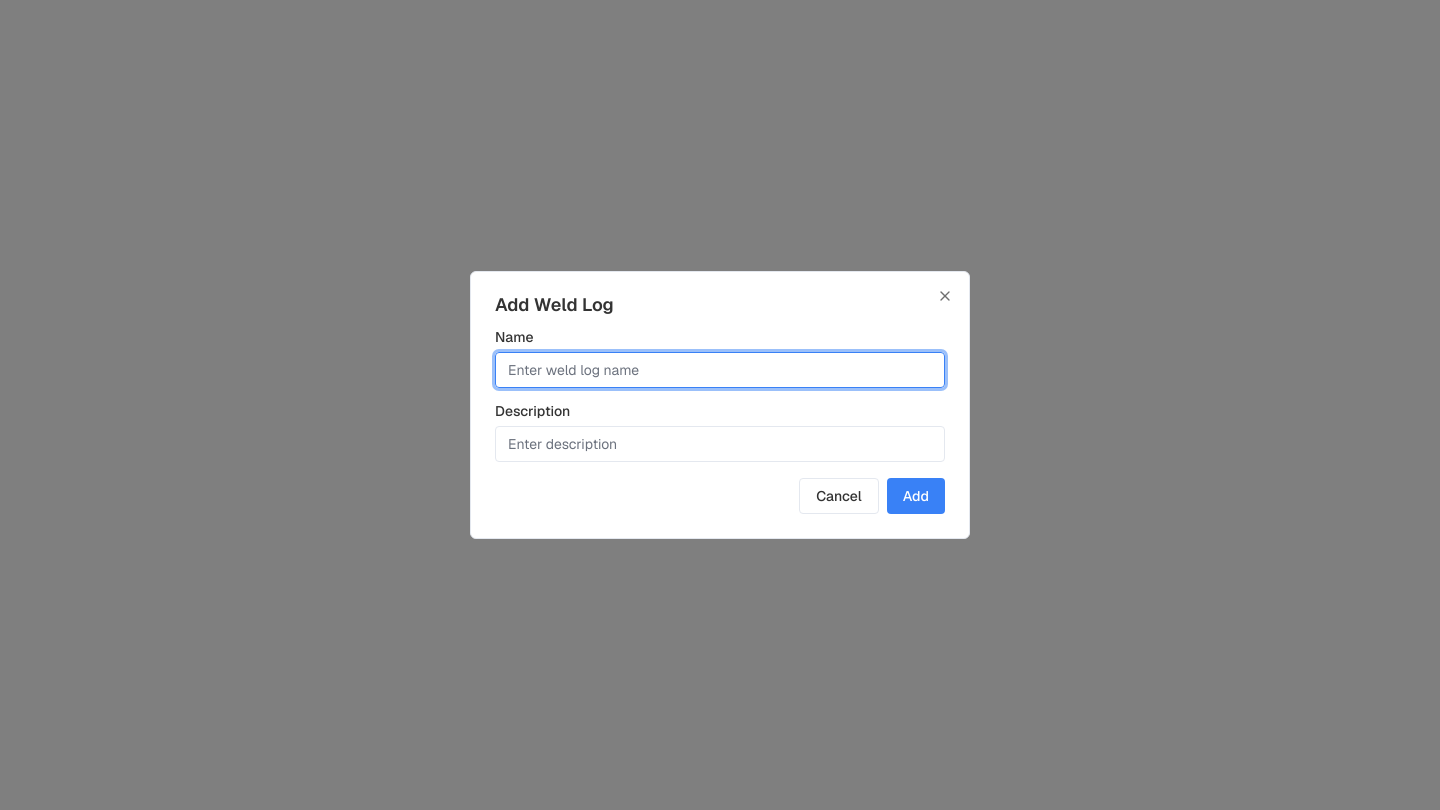
Test: WeldLogFormDialog › should handle form interactions and validation
// Test cancel functionality
Click the button "Cancel".
click(839, 496)  # box [799,478,879,514]
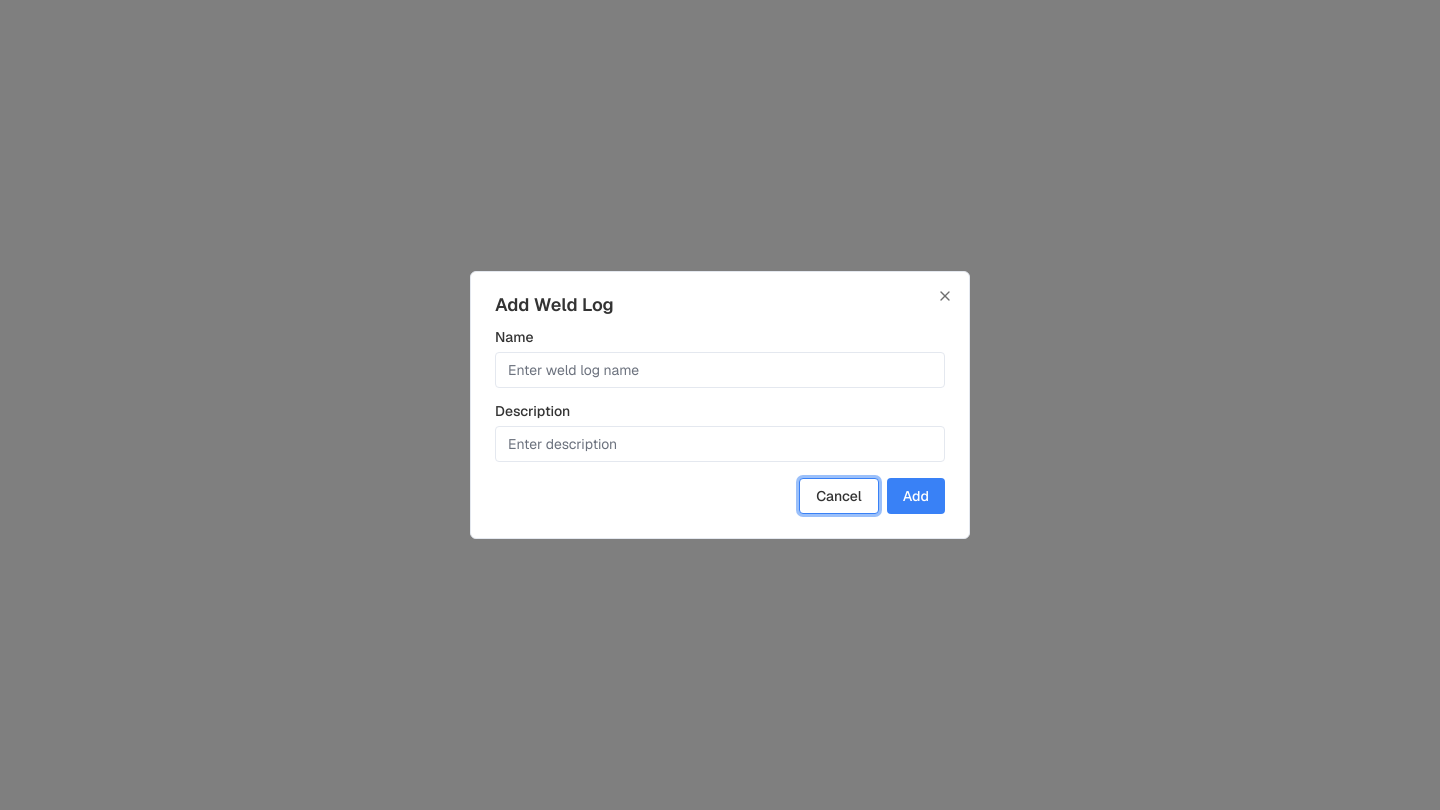
// Test validation errors
Click the button "Add".
click(916, 496)  # box [887,478,945,514]
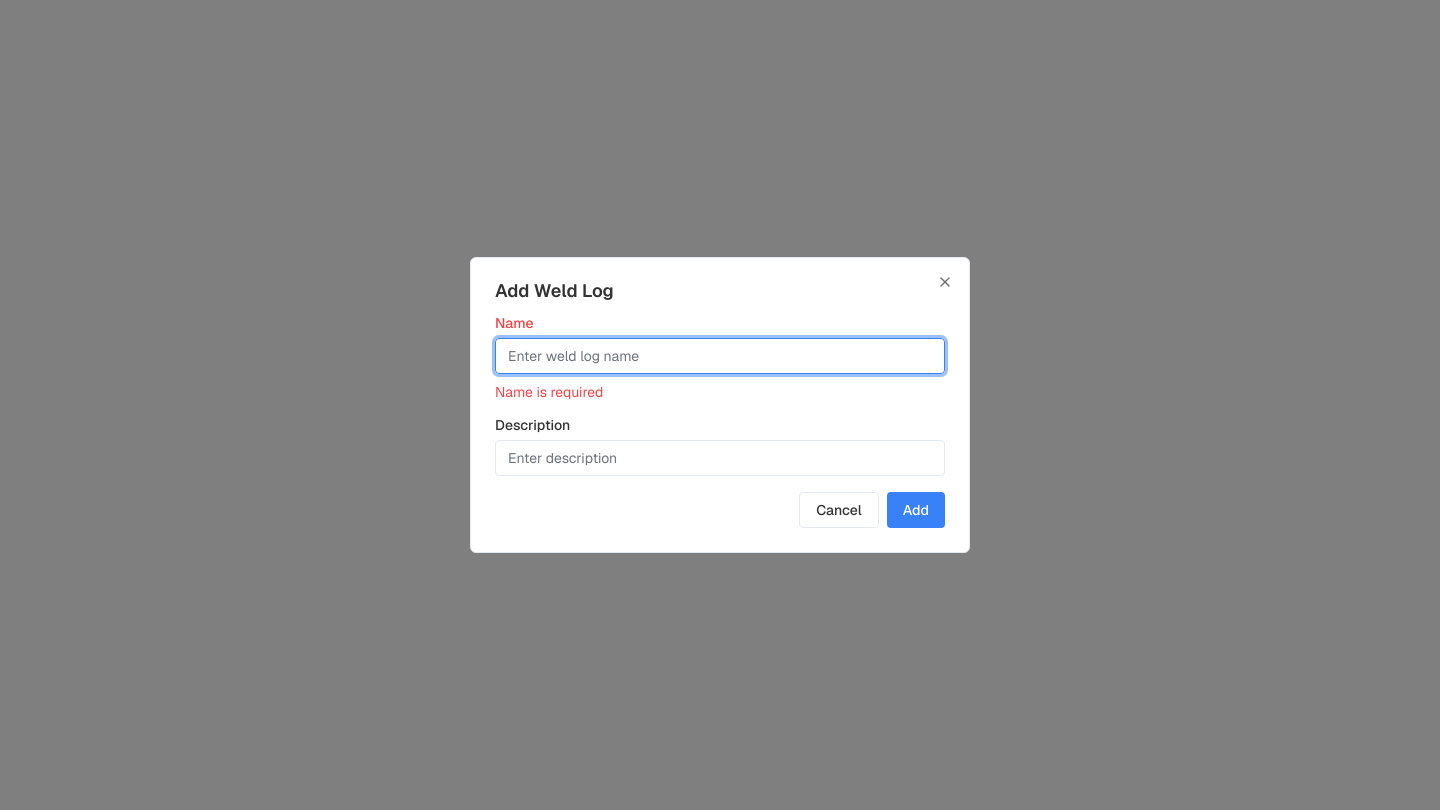
Expected: the text "Name is required" is shown, [495,383,603,401]
